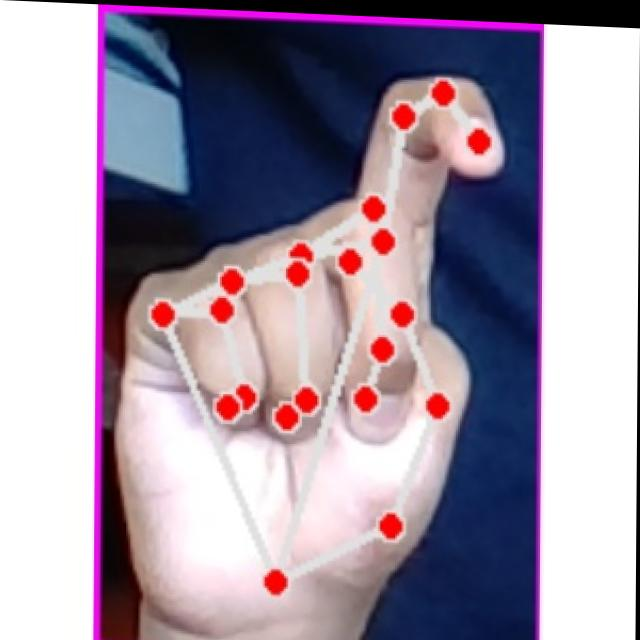Z: (115, 56, 508, 624)
